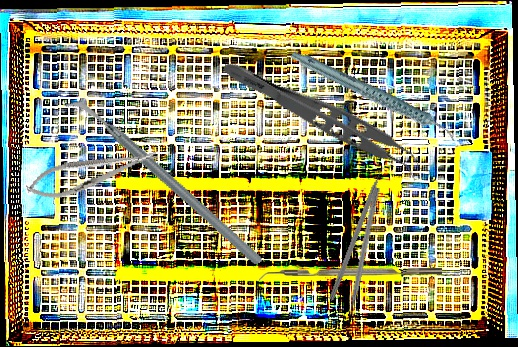Chopper: (61, 53, 264, 310), (328, 158, 395, 305), (259, 268, 442, 283)
Handpiece: (289, 21, 458, 173)
Needle Holder: (22, 139, 162, 207)
Pusher: (343, 186, 381, 324)
Tissue Forceps: (213, 56, 430, 184)
